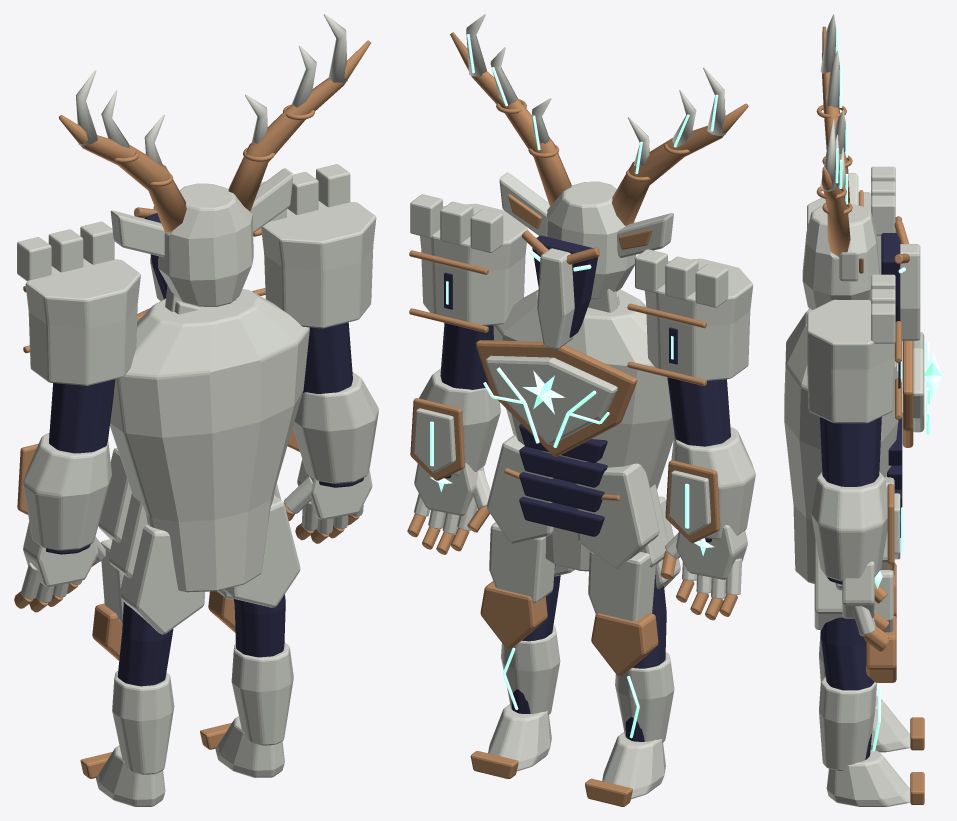
Rendered from orvann.glb.
The picture shows the model from 3 angles, left to right: view 1: azimuth 30°, elevation 25°; view 2: azimuth 150°, elevation 25°; view 3: azimuth 270°, elevation 25°; orthographic projection. The views are drawn at different scales.
Parts seen in each view (by area): view 1: BodyArmor, ArmLeftGeometry, ArmRightGeometry, HeadGeometry, LegLeftGeometry, LegRightGeometry, AntlerRightGeometry, AntlerLeftGeometry; view 2: BodyArmor, ArmLeftGeometry, ArmRightGeometry, LegLeftGeometry, HeadGeometry, LegRightGeometry, AntlerLeftGeometry, AntlerRightGeometry; view 3: ArmRightGeometry, LegRightGeometry, BodyArmor, HeadGeometry, AntlerRightGeometry, AntlerLeftGeometry, ArmLeftGeometry, LegLeftGeometry, Core.
Part boxes in pixels (x1=…): BodyArmor: x1=98, y1=289, x2=309, y2=634; ArmLeftGeometry: x1=14, y1=221, x2=140, y2=612; ArmRightGeometry: x1=252, y1=164, x2=378, y2=543; HeadGeometry: x1=110, y1=168, x2=293, y2=314; LegLeftGeometry: x1=80, y1=539, x2=174, y2=806; LegRightGeometry: x1=200, y1=590, x2=293, y2=777; AntlerRightGeometry: x1=228, y1=14, x2=370, y2=211; AntlerLeftGeometry: x1=59, y1=70, x2=186, y2=232; BodyArmor: x1=476, y1=289, x2=680, y2=589; ArmLeftGeometry: x1=627, y1=249, x2=755, y2=620; ArmRightGeometry: x1=407, y1=194, x2=528, y2=554; LegLeftGeometry: x1=585, y1=551, x2=674, y2=806; HeadGeometry: x1=499, y1=172, x2=673, y2=349; LegRightGeometry: x1=470, y1=522, x2=560, y2=778; AntlerLeftGeometry: x1=612, y1=67, x2=748, y2=225; AntlerRightGeometry: x1=450, y1=14, x2=571, y2=206; ArmRightGeometry: x1=807, y1=274, x2=903, y2=651; LegRightGeometry: x1=819, y1=570, x2=924, y2=806; BodyArmor: x1=784, y1=308, x2=929, y2=629; HeadGeometry: x1=802, y1=173, x2=920, y2=340; AntlerRightGeometry: x1=816, y1=119, x2=852, y2=256; AntlerLeftGeometry: x1=816, y1=14, x2=852, y2=202; ArmLeftGeometry: x1=807, y1=166, x2=902, y2=428; LegLeftGeometry: x1=819, y1=563, x2=924, y2=752; Core: x1=924, y1=351, x2=942, y2=400.
Bounding box in the file's own units: 1.95 × 4.07 × 0.8314.
